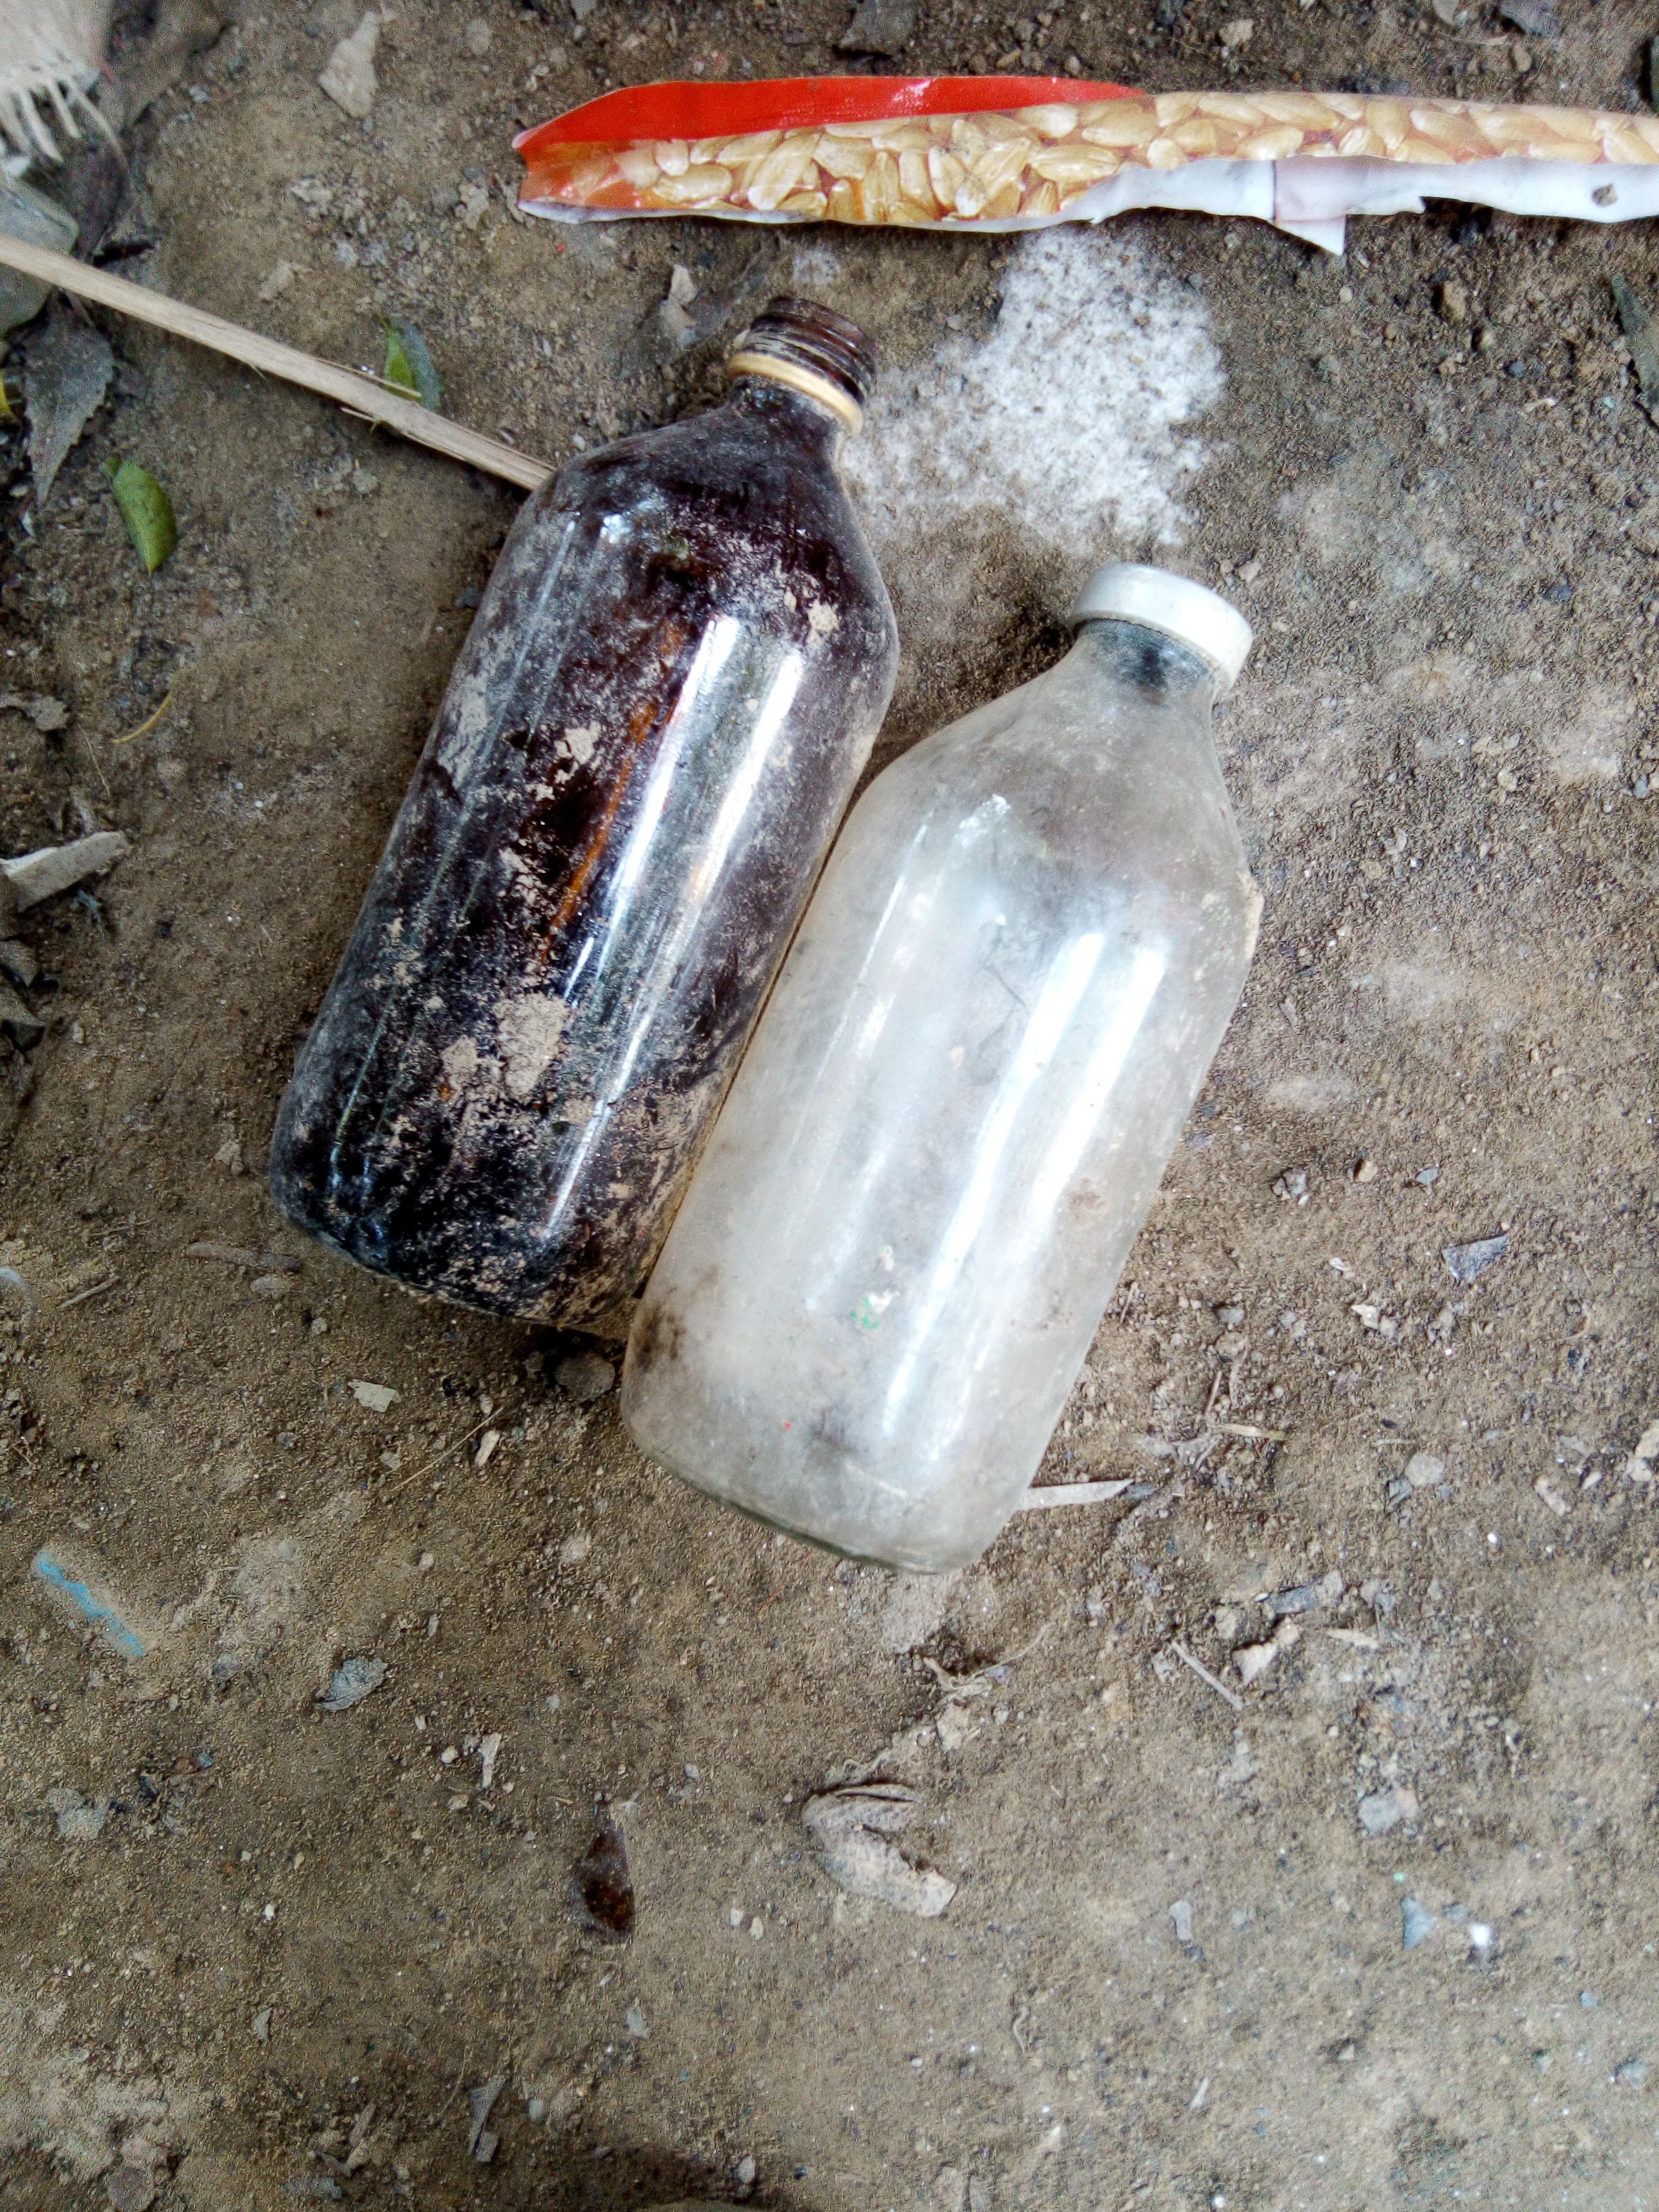trash: (256, 54, 1659, 1590)
